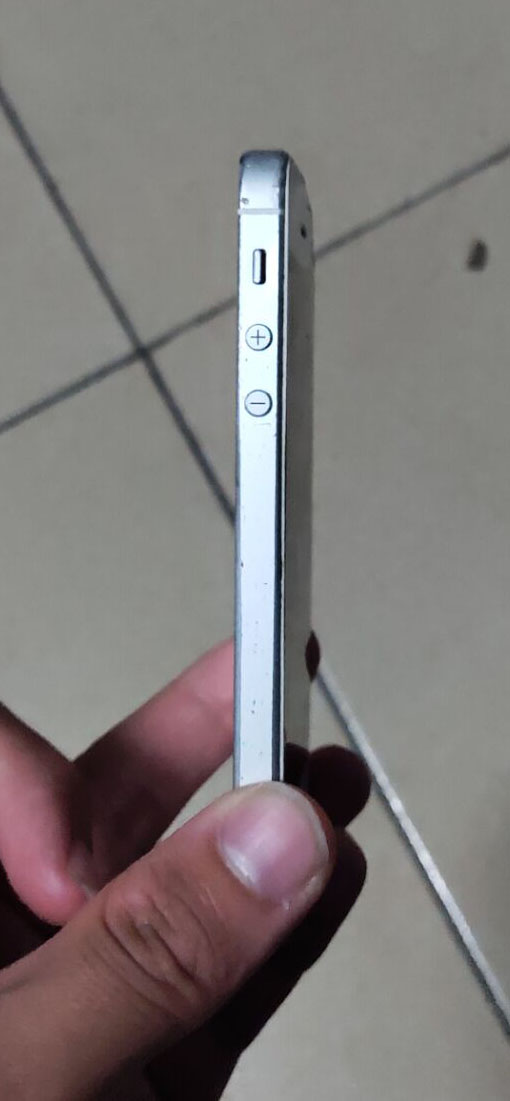phone: (217, 142, 329, 794)
